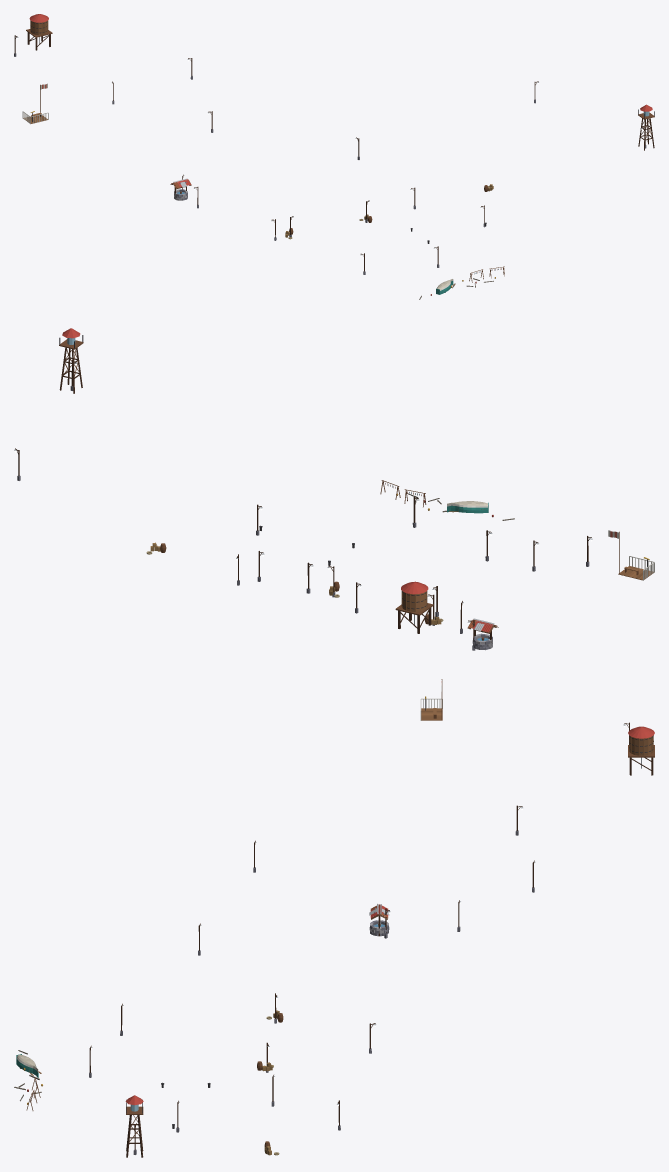
Rendered from props.glb.
3 renders of one model, top to bottom at view 1: azimuth 30°, elevation 25°; view 2: azimuth 150°, elevation 25°; view 3: azimuth 270°, elevation 25°, orthographic. The views are drawn at different scales.
Parts seen in each view (by area): view 1: LT_PROPS; view 2: LT_PROPS; view 3: LT_PROPS.
Part boxes in pixels (left/top/right/bottom): LT_PROPS: left=14, top=14, right=654, bottom=299; LT_PROPS: left=14, top=328, right=654, bottom=650; LT_PROPS: left=14, top=679, right=654, bottom=1157.
Size of the model in its own units: 76.52 by 22.42 by 59.31.
